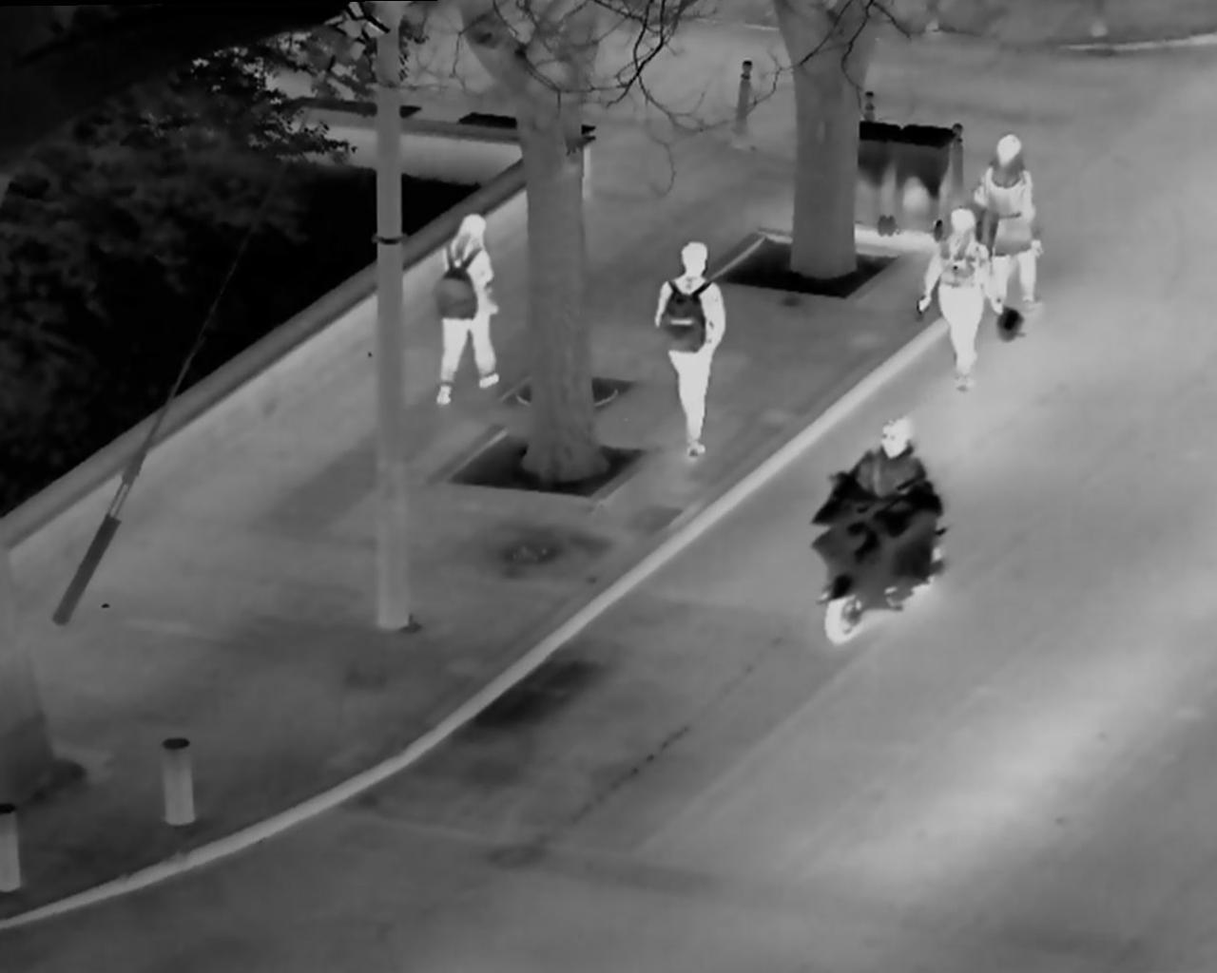person: (815, 398, 941, 647), (644, 224, 736, 465), (967, 124, 1065, 325), (921, 204, 1006, 395), (428, 209, 510, 404)
